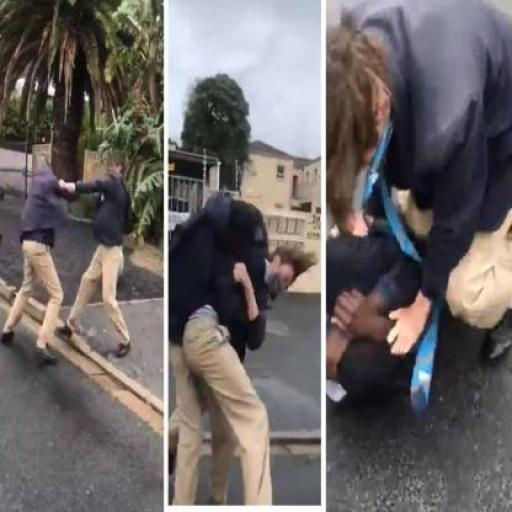Fighting: (328, 1, 512, 429), (169, 190, 318, 505), (3, 144, 142, 370)
